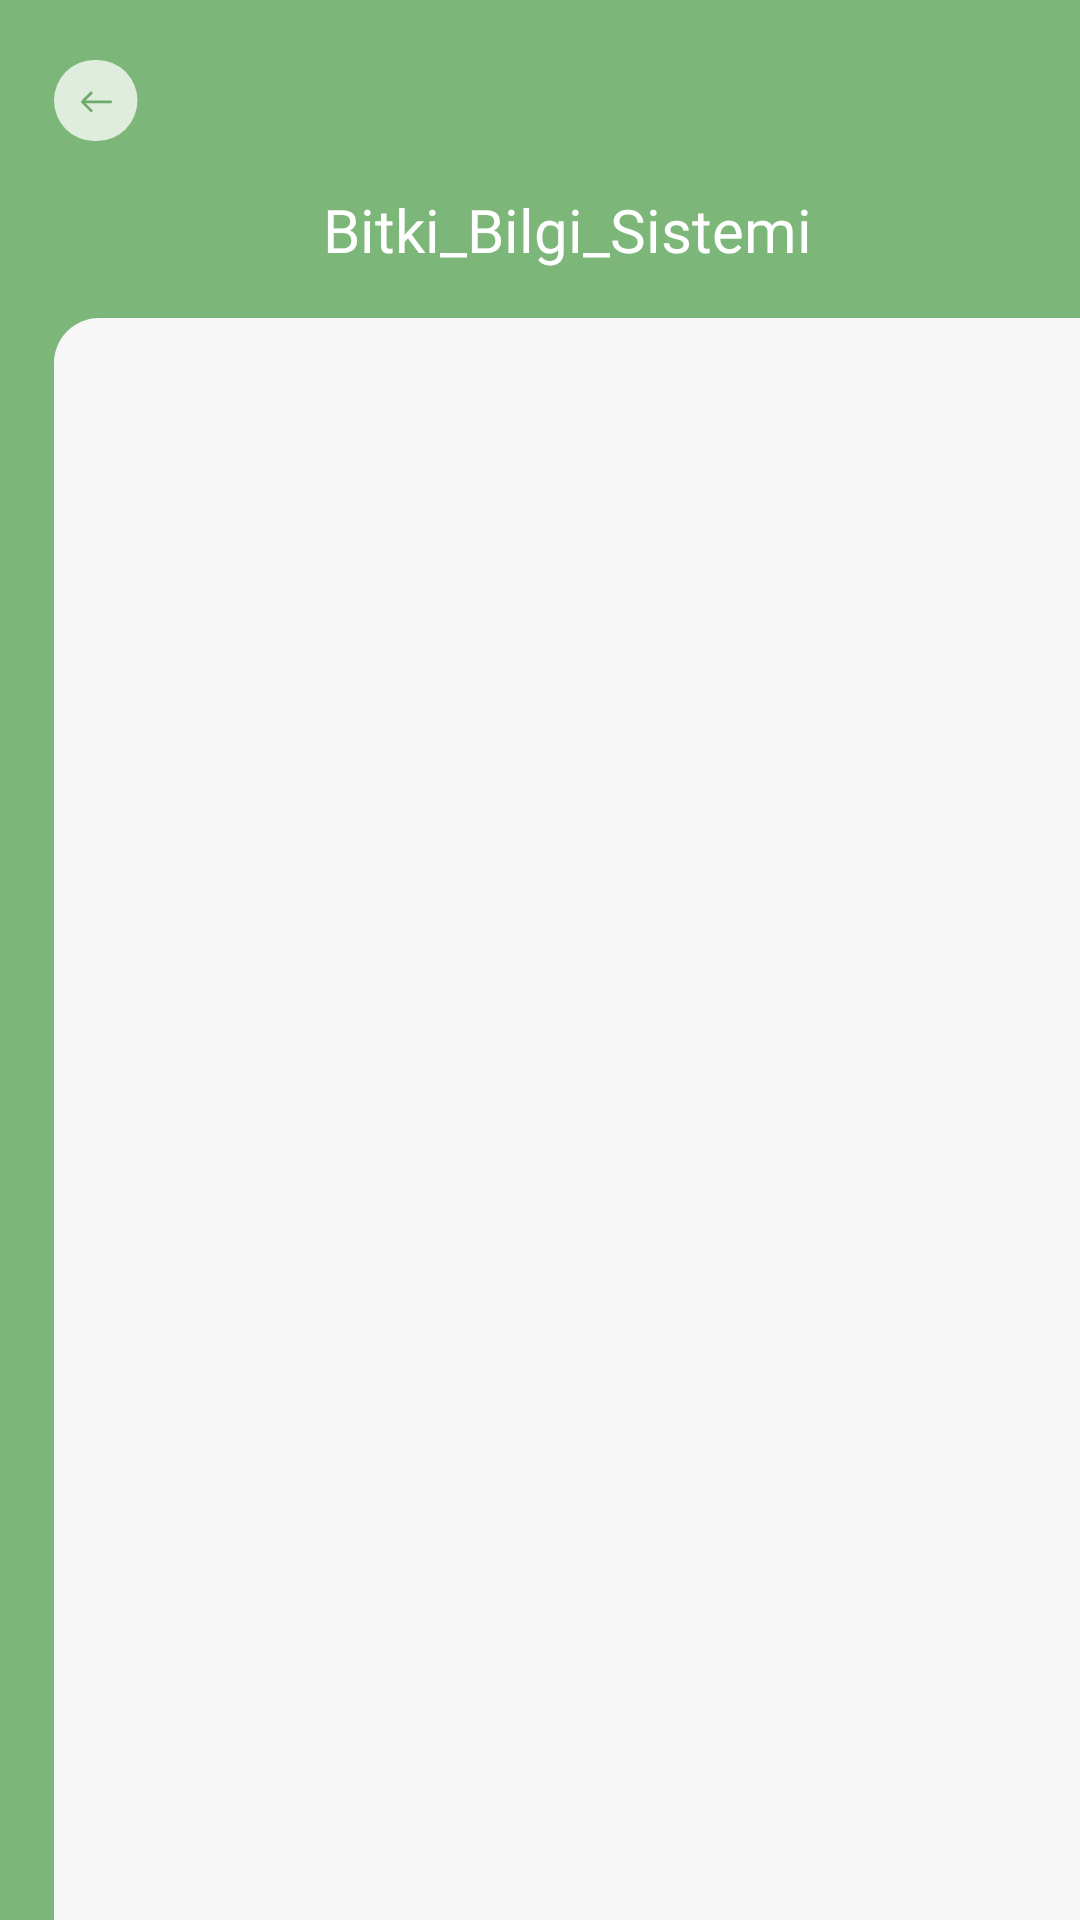

Icon bounding boxes for this 1080 x 1920 phone screenshot, format (x1, y1, x2, y2):
back: (54, 60, 138, 141)
